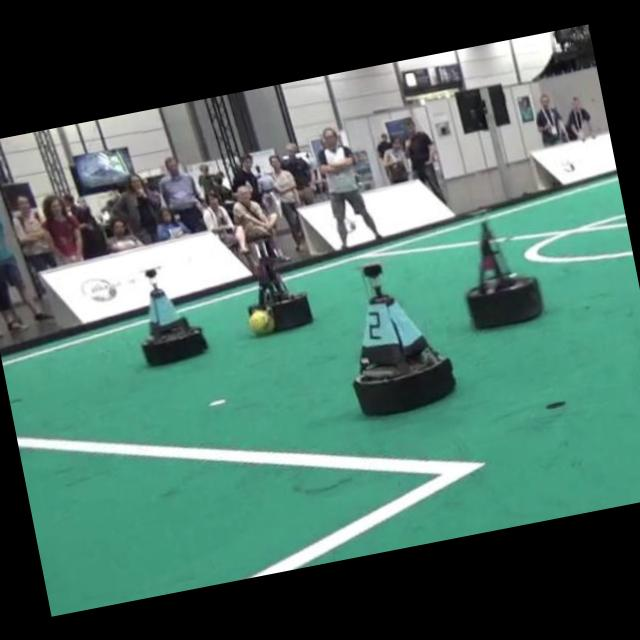ball: (248, 308, 275, 334)
robot: (353, 263, 454, 413), (466, 221, 543, 328), (142, 268, 207, 364), (248, 240, 313, 330)
